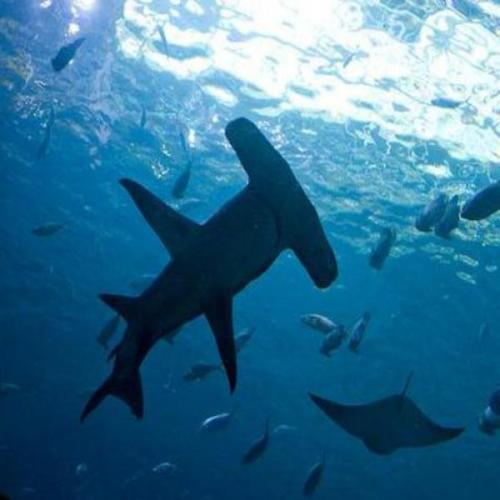shark-endangered: (76, 115, 342, 427)
